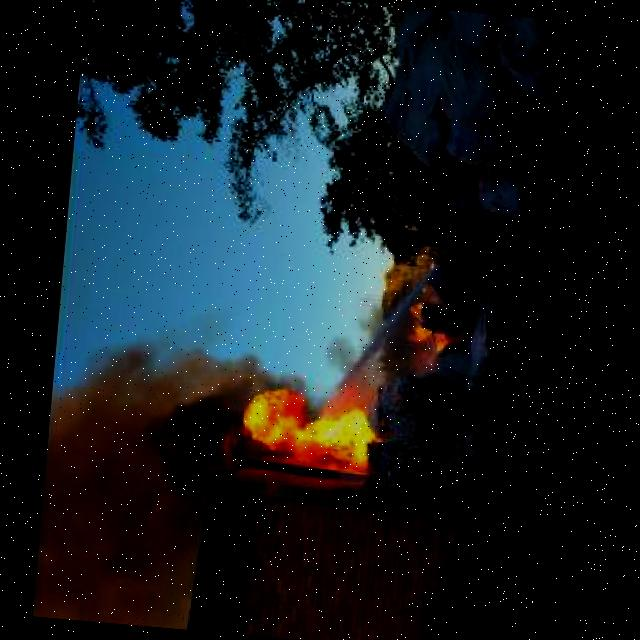fire: (235, 384, 370, 479), (402, 295, 448, 350)
